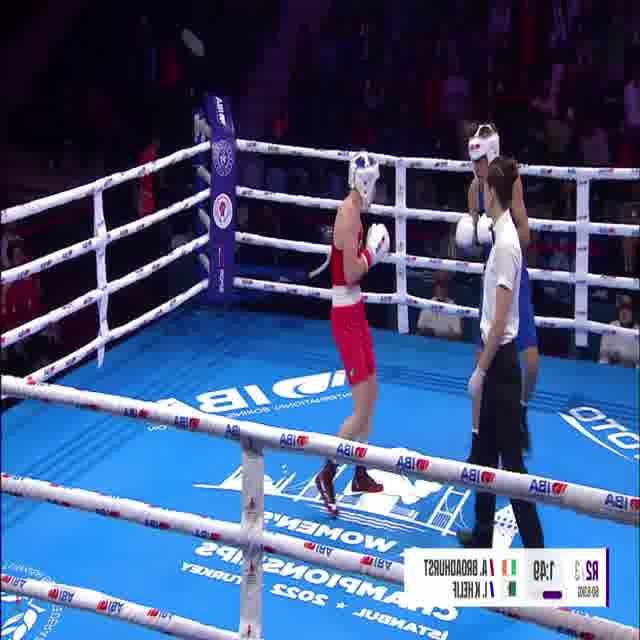blue-player: (458, 119, 540, 490)
red-player: (311, 147, 393, 520)
referee: (452, 154, 544, 550)
